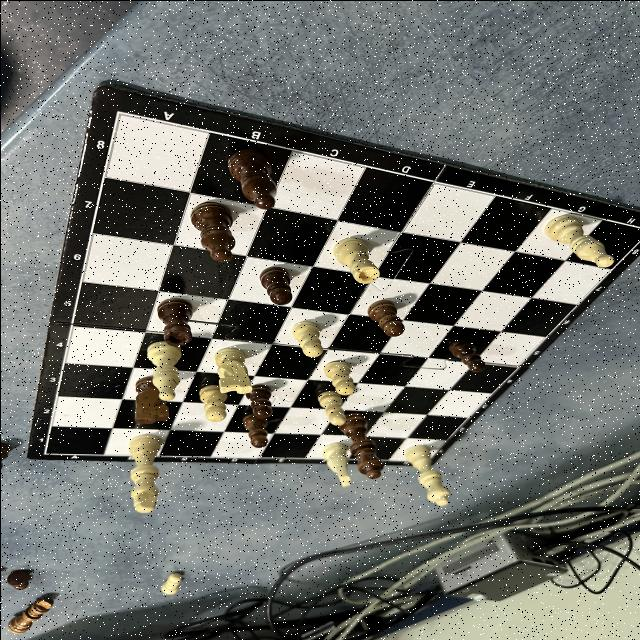Black-Bishop: (226, 148, 278, 210), (189, 201, 235, 262)
Black-Knight: (132, 399, 168, 424)
Black-Pawn: (366, 300, 404, 336), (446, 339, 486, 372), (258, 266, 292, 304), (240, 416, 268, 447), (246, 390, 272, 418)
Black-Queen: (349, 412, 384, 478)
Black-Rook: (156, 296, 192, 346)
White-Bishop: (543, 214, 614, 267), (146, 346, 182, 400)
White-King: (128, 433, 162, 513)
White-Knight: (212, 346, 252, 394), (320, 442, 351, 486)
White-Pawn: (290, 321, 324, 356), (322, 360, 356, 394), (315, 390, 346, 424), (197, 391, 227, 421)
White-Queen: (402, 444, 450, 506)
White-Rook: (332, 236, 380, 284)
